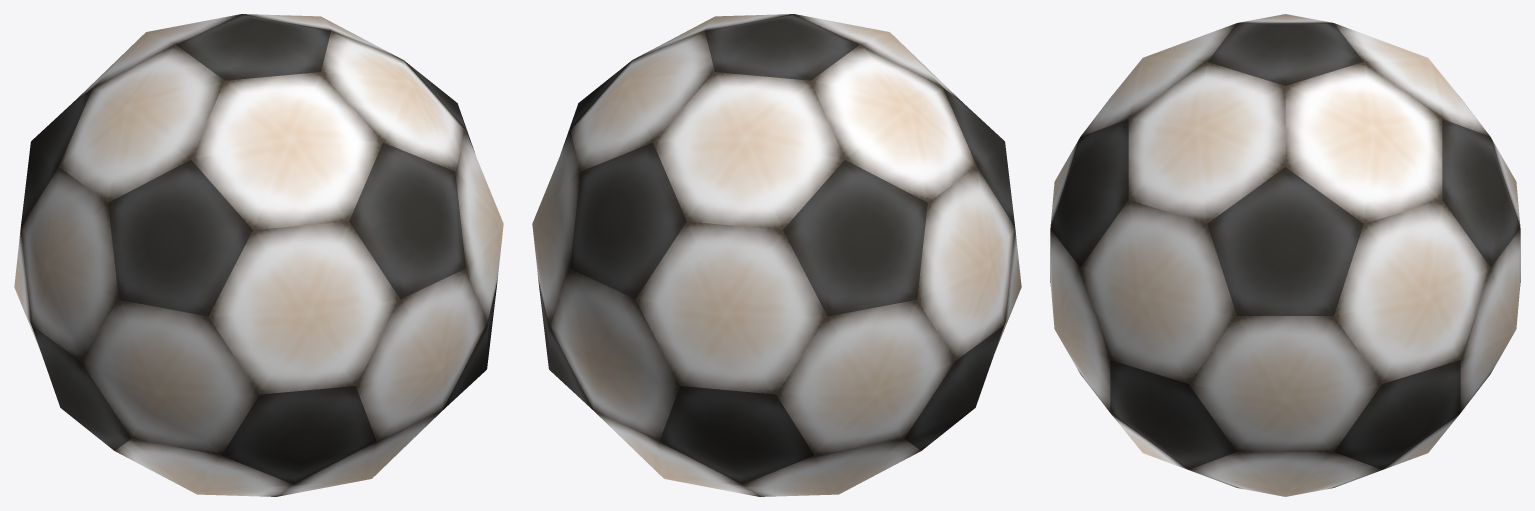
The model's file is Sphere - Ball.fbx.
3 renders of one model, left to right at view 1: azimuth 30°, elevation 25°; view 2: azimuth 150°, elevation 25°; view 3: azimuth 270°, elevation 25°, orthographic.
Parts seen in each view (by area): view 1: Sphere_Model; view 2: Sphere_Model; view 3: Sphere_Model.
Boxes of the visible parts, x1,y1,x2,y2 form: Sphere_Model: (14, 14, 503, 496); Sphere_Model: (532, 14, 1021, 496); Sphere_Model: (1050, 14, 1520, 496).
Bounding box in the file's own units: 216 × 225 × 209.
Materials: 1 (1 with a texture image).
